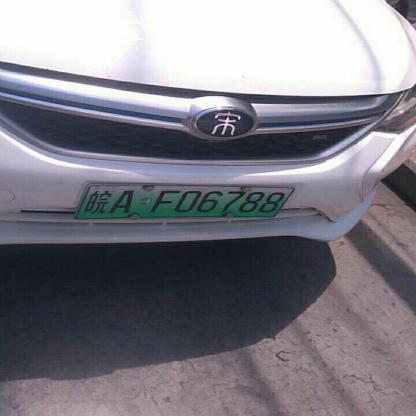lp: (76, 184, 294, 217)
